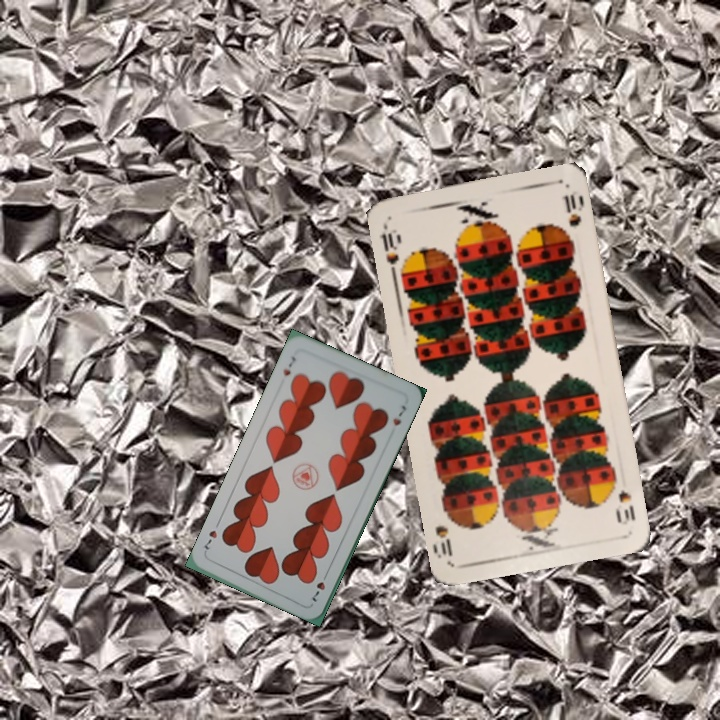H7: (308, 568, 331, 605), (279, 352, 299, 378)
S10: (609, 472, 638, 528), (377, 220, 403, 278)
